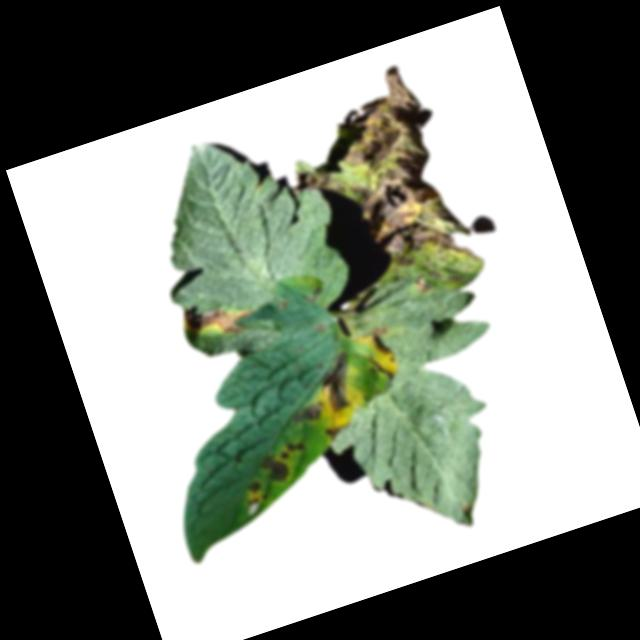Early_blight: (264, 58, 488, 329), (178, 283, 266, 350), (312, 349, 366, 417), (262, 435, 314, 483), (361, 320, 400, 366), (289, 399, 324, 427), (238, 476, 267, 508), (322, 420, 352, 443)
